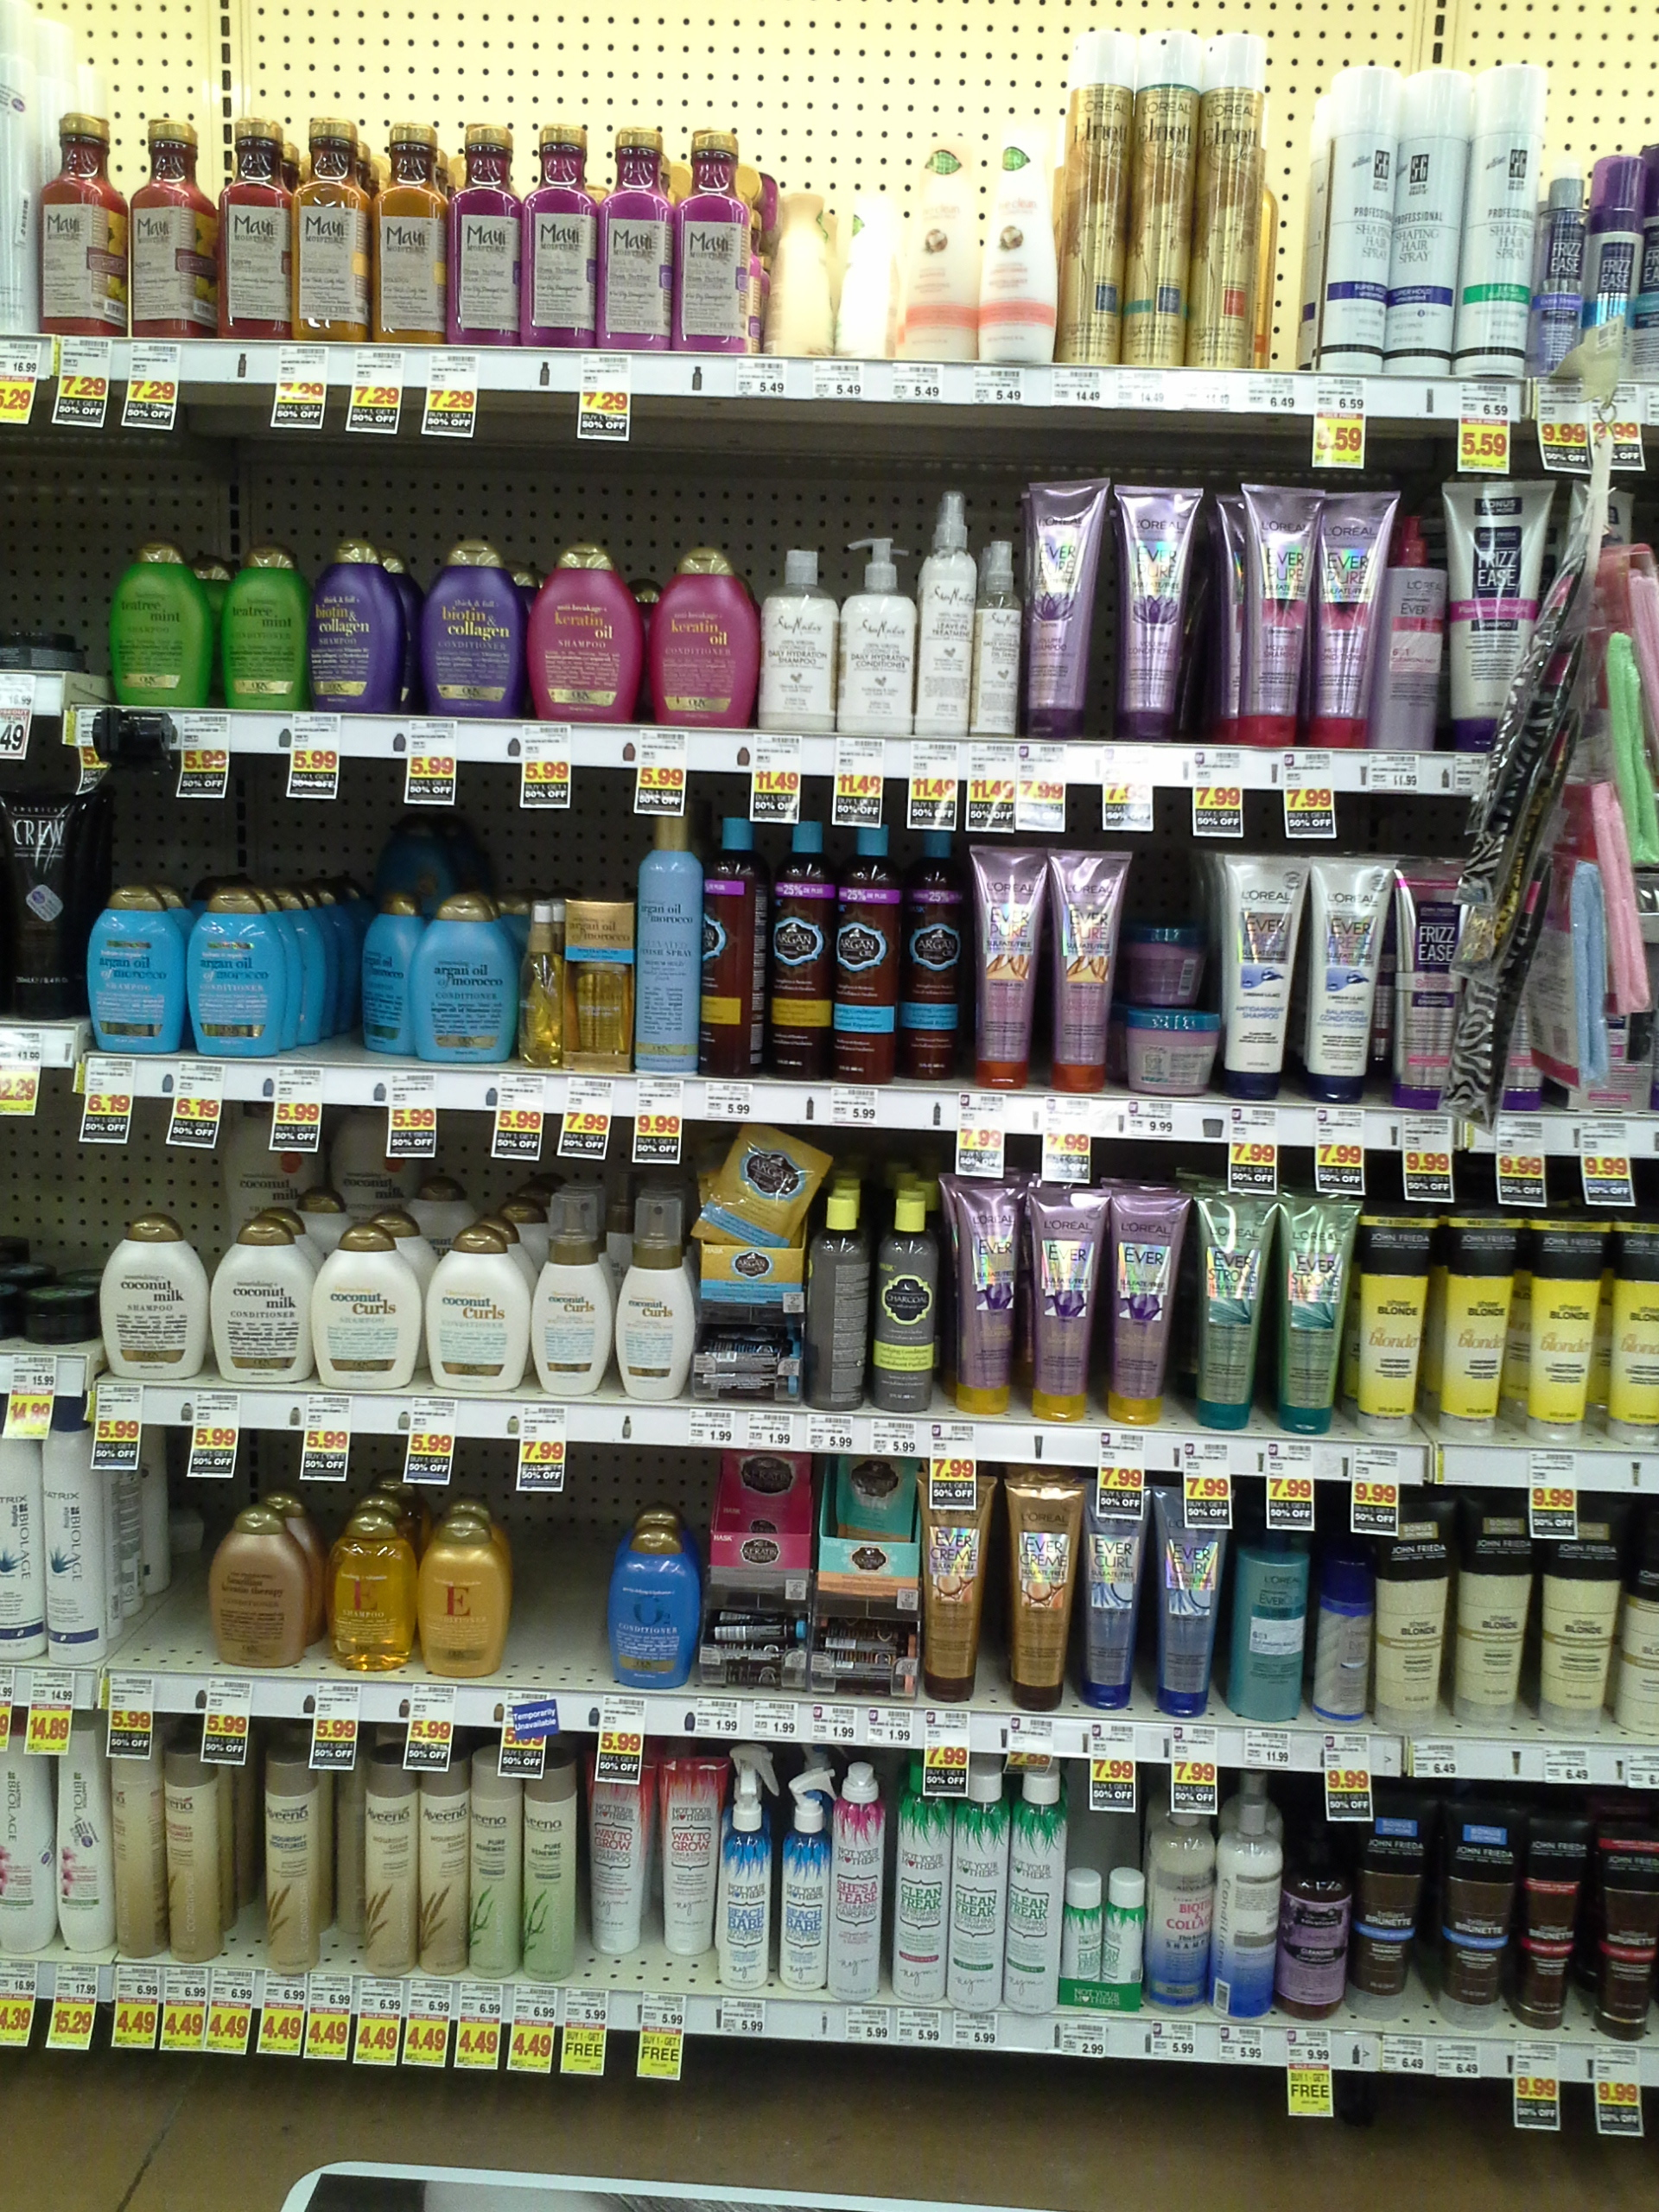Misplacement: (579, 1750, 716, 1993)
Out-of-stock: (514, 1496, 610, 1684)
